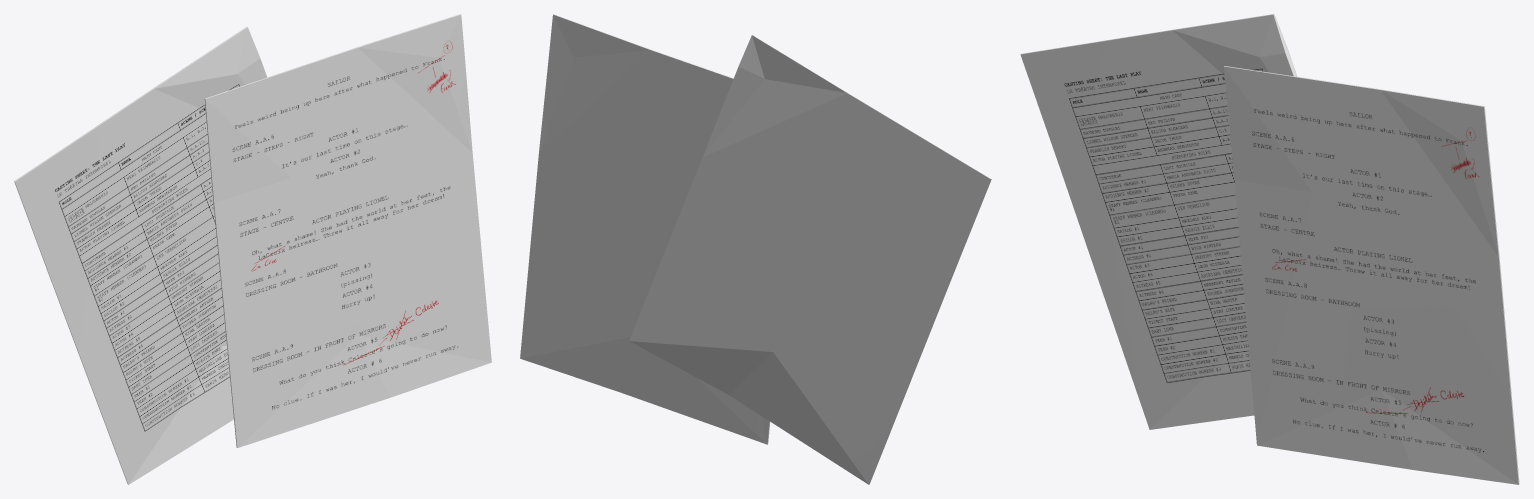
The model's file is paper_left.glb.
The picture shows the model from 3 angles, left to right: view 1: azimuth 30°, elevation 25°; view 2: azimuth 150°, elevation 25°; view 3: azimuth 330°, elevation 25°; orthographic projection. The views are drawn at different scales.
Visible parts, largest first — view 1: script, casting_sheet, script.001, casting_sheet.001; view 2: casting_sheet.001, script.001, casting_sheet; view 3: script, casting_sheet, script.001.
Boxes of the visible parts, x1=… form: script: x1=205, y1=14, x2=491, y2=447; casting_sheet: x1=14, y1=27, x2=267, y2=484; script.001: x1=204, y1=14, x2=460, y2=447; casting_sheet.001: x1=14, y1=27, x2=246, y2=483; casting_sheet.001: x1=629, y1=35, x2=991, y2=484; script.001: x1=520, y1=14, x2=769, y2=444; casting_sheet: x1=752, y1=34, x2=991, y2=482; script: x1=1223, y1=66, x2=1519, y2=484; casting_sheet: x1=1020, y1=14, x2=1296, y2=429; script.001: x1=1224, y1=66, x2=1519, y2=483.
Size of the model in its own units: 0.6214 by 0.5323 by 0.0278.
Materials: 4 (2 with a texture image).
